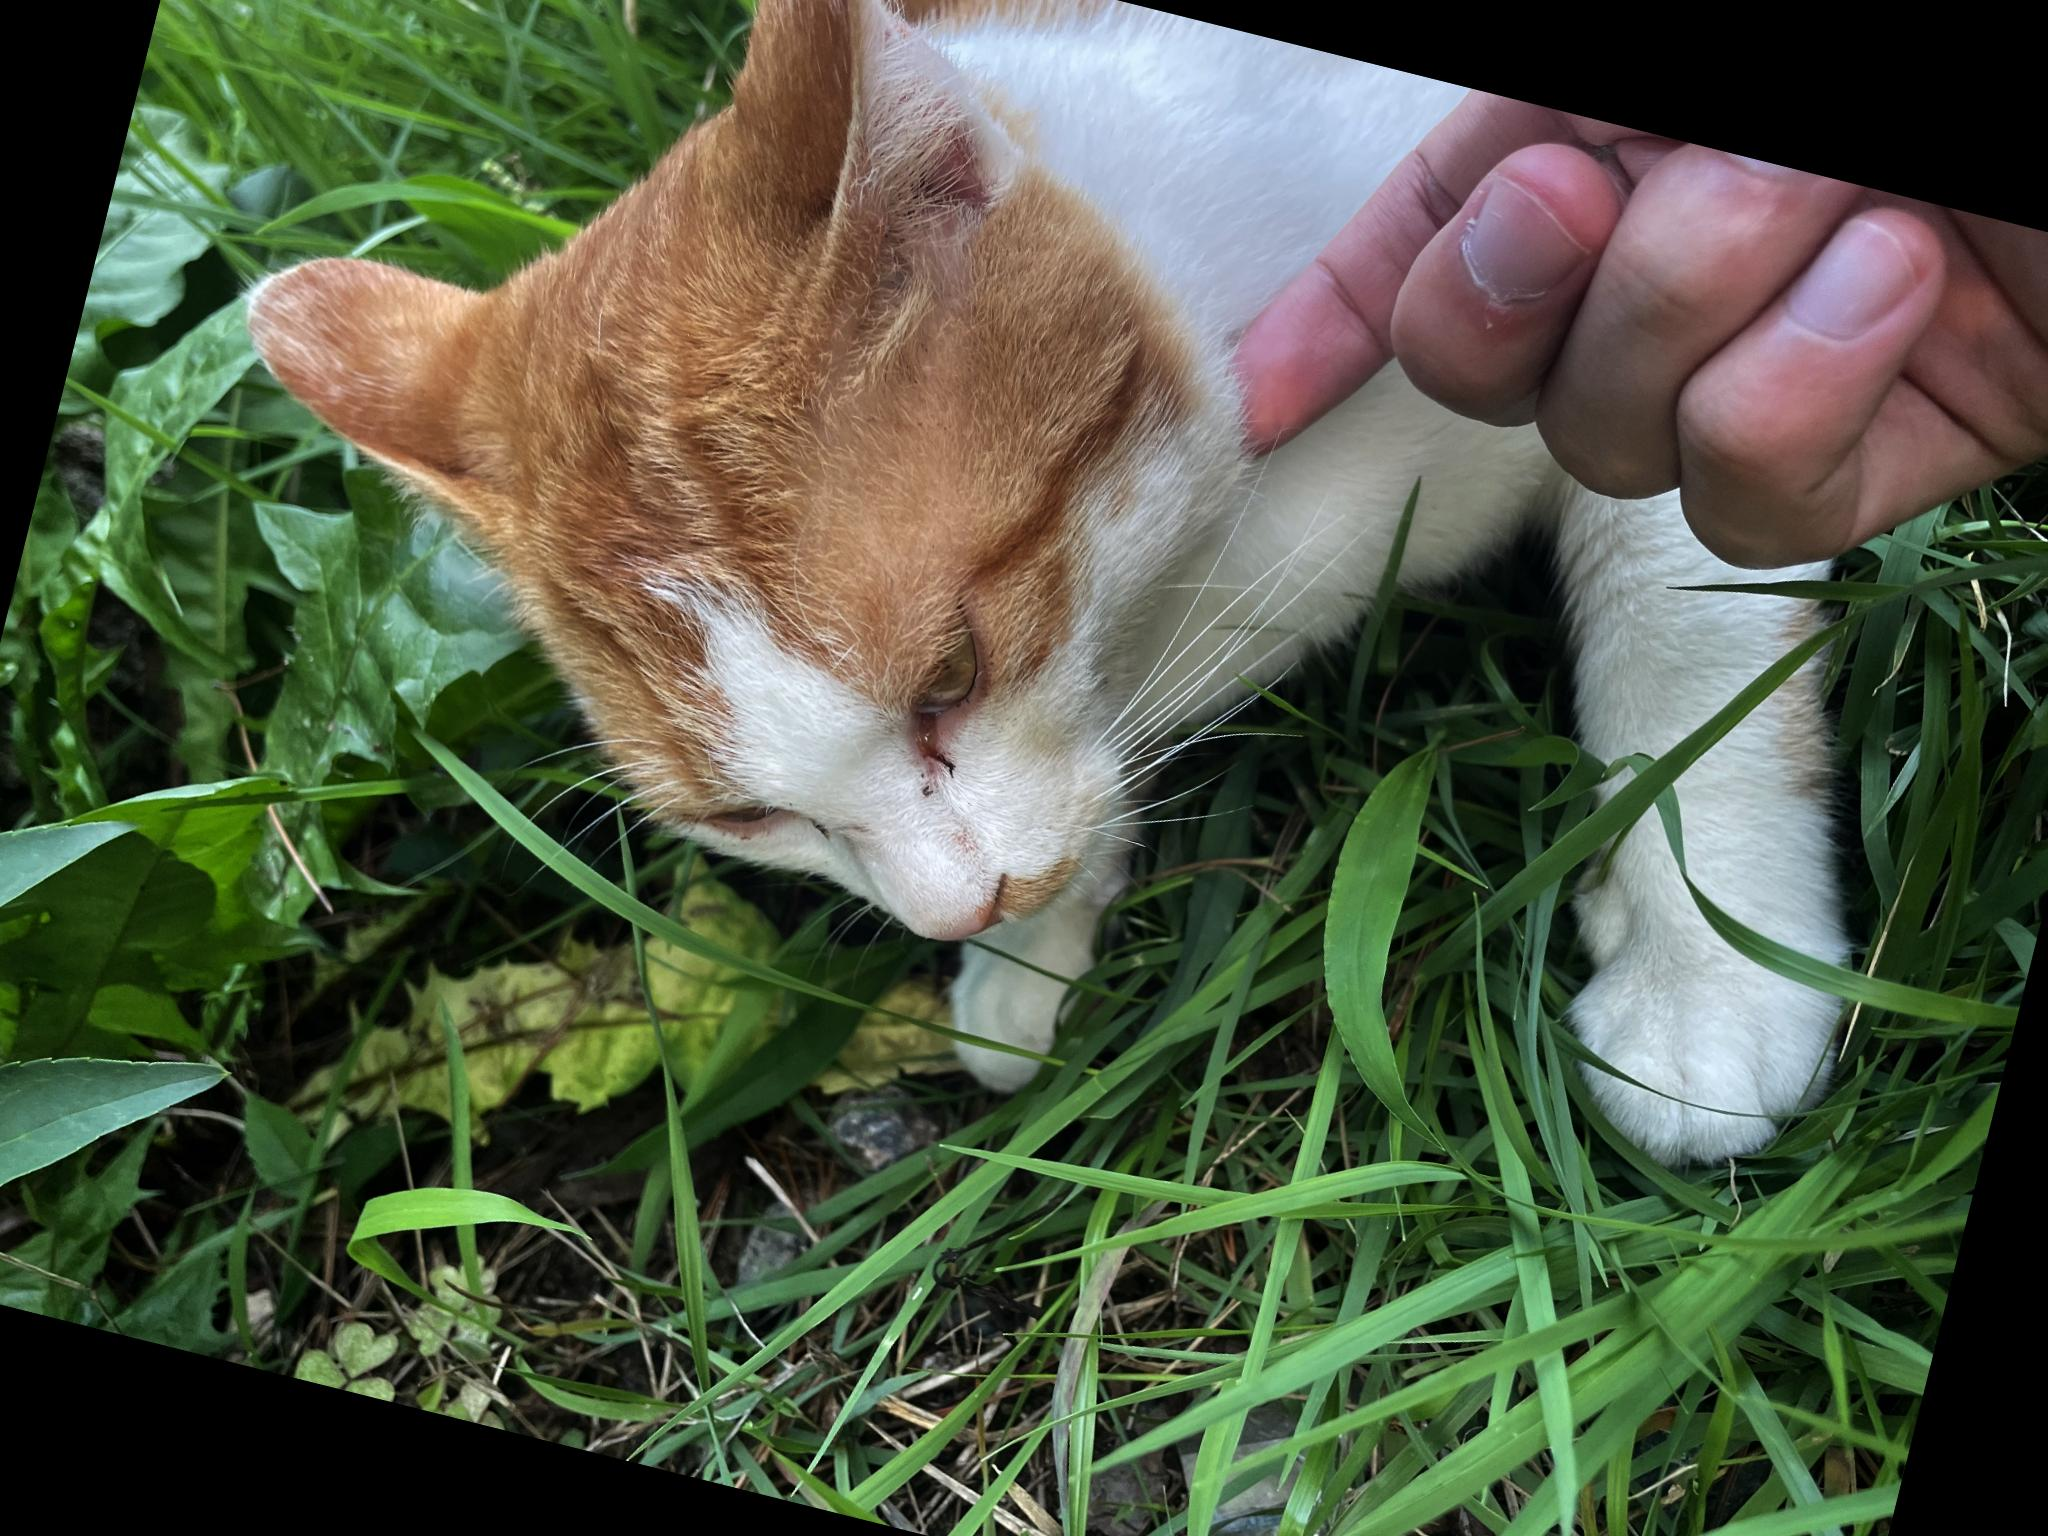cat: (276, 31, 1666, 1536)
